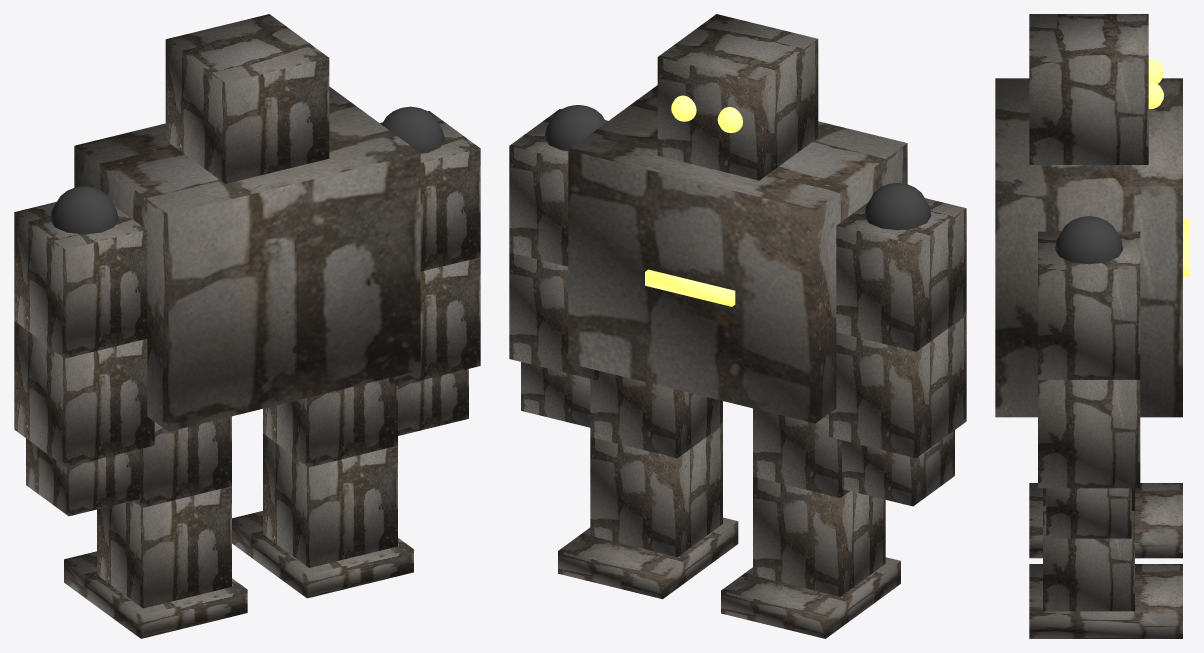
File: living-statue.glb
3 views of the same model, side by side, from view 1: azimuth 30°, elevation 25°; view 2: azimuth 150°, elevation 25°; view 3: azimuth 270°, elevation 25° (orthographic). The views are drawn at different scales.
Parts seen in each view (by area): view 1: Torso, Head, UpperArm, Forearm, Shin.001, Shin, Thigh.001, UpperArm.001, Forearm.001, Thigh, Foot, Foot.001 (+4 smaller); view 2: Torso, Head, UpperArm, Forearm, Shin.001, Shin, Thigh.001, UpperArm.001, Foot.001, Foot, Forearm.001, Thigh (+5 smaller); view 3: Torso, Head, UpperArm.001, Forearm.001, Foot.001, Shin.001, Foot, Fist.001, Shoulder.001, Rune, Eye.001, Eye.
Part boxes in pixels (x1,y1,x2,y2): Torso: [74, 86, 420, 431]; Head: [165, 14, 329, 183]; UpperArm: [14, 202, 147, 358]; Forearm: [14, 321, 154, 466]; Shin.001: [263, 433, 397, 567]; Shin: [97, 486, 231, 608]; Thigh.001: [263, 378, 397, 467]; UpperArm.001: [380, 111, 480, 271]; Forearm.001: [389, 257, 480, 387]; Thigh: [134, 416, 231, 507]; Foot: [64, 551, 247, 638]; Foot.001: [232, 511, 413, 598]; Torso: [568, 85, 907, 423]; Head: [657, 14, 818, 180]; UpperArm: [836, 198, 966, 351]; Forearm: [829, 315, 966, 457]; Shin.001: [590, 425, 722, 556]; Shin: [753, 476, 885, 596]; Thigh.001: [590, 371, 722, 458]; UpperArm.001: [509, 109, 607, 266]; Foot.001: [558, 517, 738, 599]; Foot: [721, 557, 900, 638]; Forearm.001: [509, 252, 598, 380]; Thigh: [753, 408, 849, 497]; Torso: [995, 78, 1182, 417]; Head: [1029, 14, 1148, 164]; UpperArm.001: [1038, 231, 1140, 379]; Forearm.001: [1038, 379, 1140, 488]; Foot.001: [1029, 564, 1182, 638]; Shin.001: [1043, 511, 1134, 611]; Foot: [1029, 483, 1182, 558]; Fist.001: [1046, 488, 1131, 538]; Shoulder.001: [1055, 216, 1122, 264]; Rune: [1183, 219, 1189, 276]; Eye.001: [1148, 82, 1163, 108]; Eye: [1148, 59, 1163, 83].
Bounding box in the file's own units: 0.8116 × 1 × 0.3304.
Materials: 3 (1 with a texture image).
